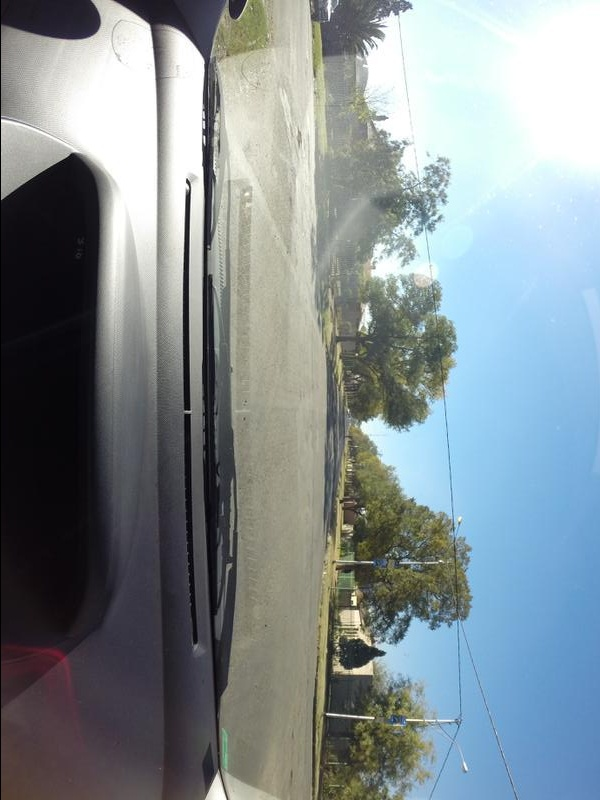pothole: (287, 127, 304, 159)
